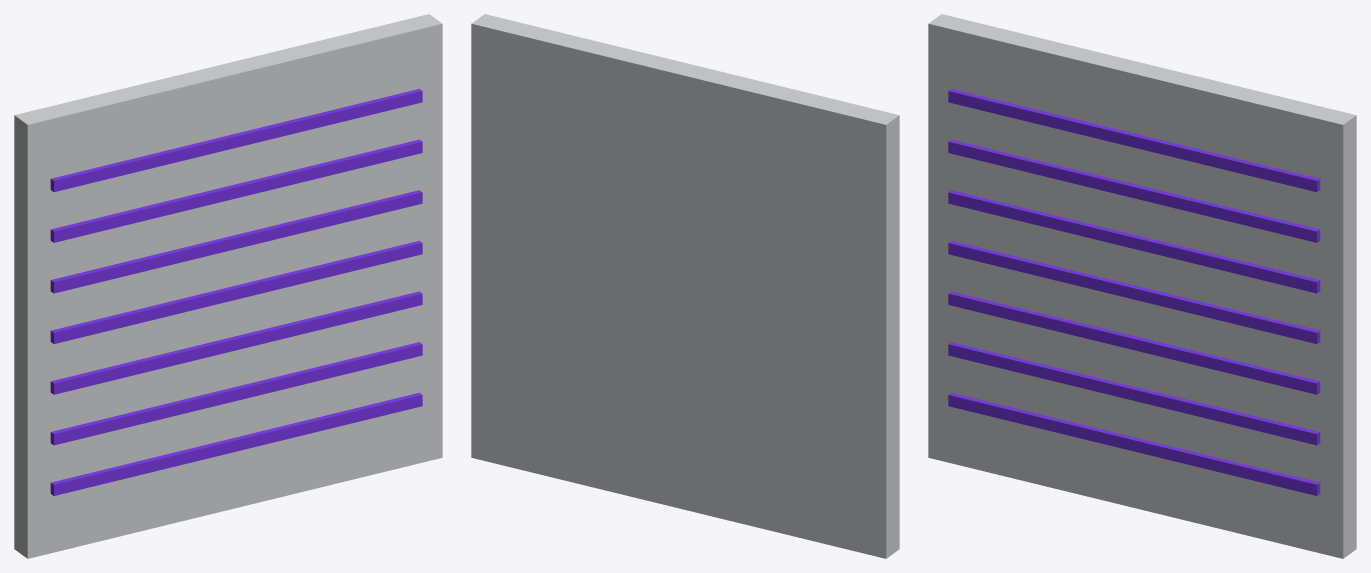
The model's file is term-return-grille.glb.
The picture shows the model from 3 angles, left to right: view 1: azimuth 30°, elevation 25°; view 2: azimuth 150°, elevation 25°; view 3: azimuth 330°, elevation 25°; orthographic projection.
Visible parts, largest first — view 1: hvac-terminal-return-grille; view 2: hvac-terminal-return-grille; view 3: hvac-terminal-return-grille.
Part boxes in pixels (box(x1,y1,x2,y2)): hvac-terminal-return-grille: box(14, 14, 442, 558); hvac-terminal-return-grille: box(471, 14, 899, 558); hvac-terminal-return-grille: box(928, 14, 1356, 558).
Bounding box in the file's own units: 0.54 × 0.54 × 0.037.
